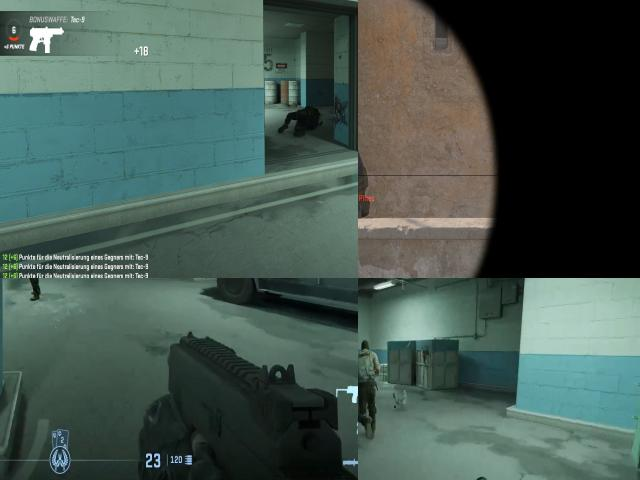Dead: (278, 107, 326, 139)
T: (358, 341, 380, 393)
T-Head: (358, 339, 375, 363)
